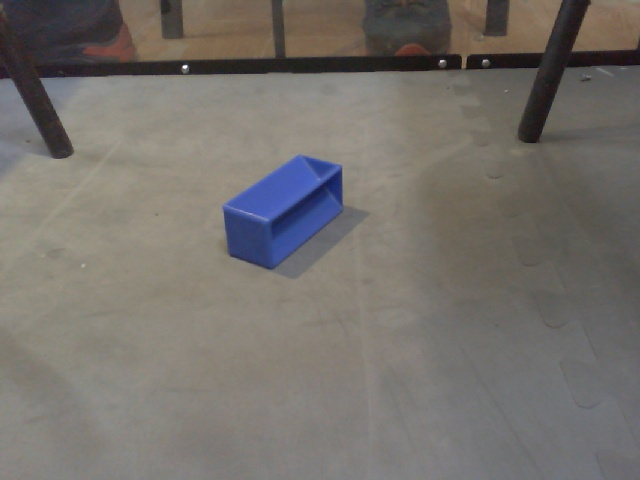BlueSample: (216, 153, 347, 268)
